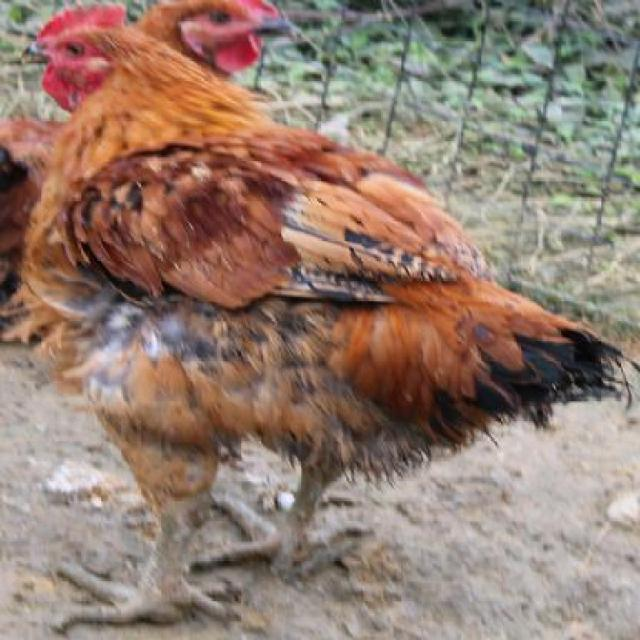cook: (52, 500, 230, 640), (196, 518, 342, 580), (208, 484, 268, 537)
